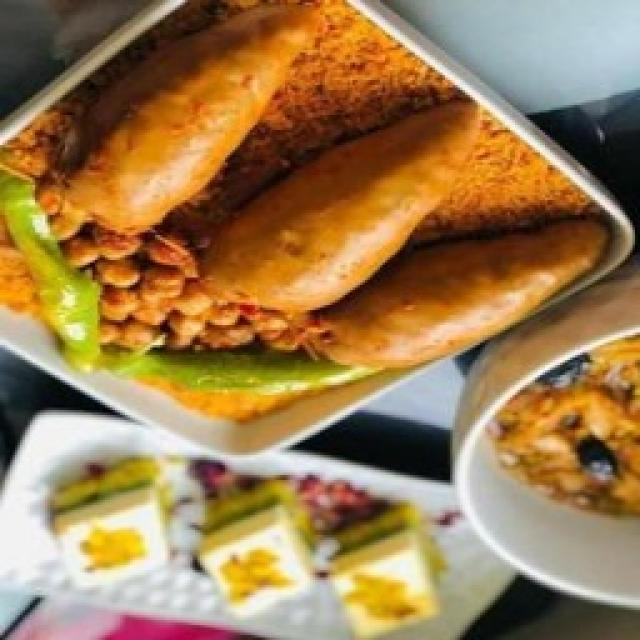Couscous: (50, 0, 426, 351), (0, 1, 300, 184), (146, 381, 310, 421), (0, 219, 39, 318)
